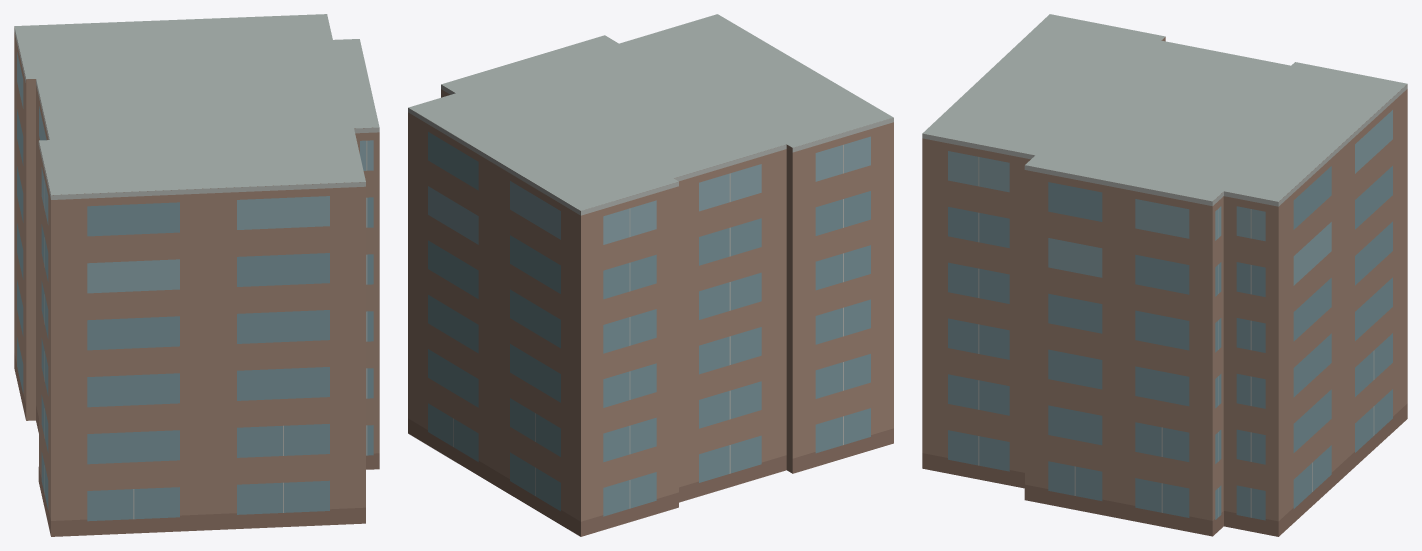
File: survey-upis-32747972.glb
3 views of the same model, side by side, from view 1: azimuth 30°, elevation 25°; view 2: azimuth 150°, elevation 25°; view 3: azimuth 270°, elevation 25° (orthographic). The views are drawn at different scales.
Visible parts, largest first — view 1: survey-upis-32747972.tmp; view 2: survey-upis-32747972.tmp; view 3: survey-upis-32747972.tmp.
Boxes of the visible parts, box(x1,y1,x2,y2) form: survey-upis-32747972.tmp: box(14, 14, 379, 536); survey-upis-32747972.tmp: box(408, 14, 893, 536); survey-upis-32747972.tmp: box(922, 14, 1407, 536).
Size of the model in its own units: 20.45 by 17 by 22.33.
